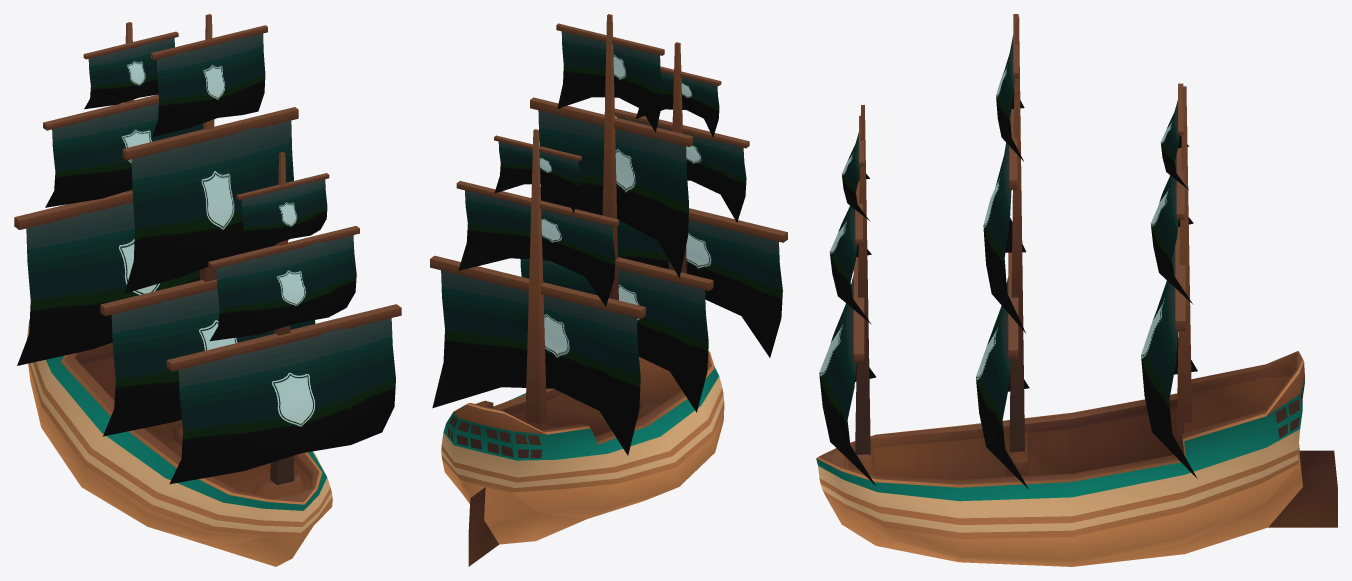
Rendered from corsair.glb.
The picture shows the model from 3 angles, left to right: view 1: azimuth 30°, elevation 25°; view 2: azimuth 150°, elevation 25°; view 3: azimuth 270°, elevation 25°; orthographic projection. The views are drawn at different scales.
Parts seen in each view (by area): view 1: fregate, Plane.015, Plane.001, Plane.009, Plane.011, Plane.014, Plane.002, Plane.007, Plane.013, Plane.005, Cube.057, Cube.042 (+9 smaller); view 2: fregate, Plane.009, Plane.001, Plane.015, Plane.007, Plane.011, Plane.002, Cube.041, Plane.014, Plane.005, Cube.049, Cube.040 (+9 smaller); view 3: fregate, Plane.009, Plane.015, Plane.011, Cube.040, Plane.001, Cube.041, Cube.039, Plane.007, Plane.014, Plane.002, Plane.005 (+4 smaller).
Boxes of the visible parts, x1=… form: fregate: x1=27, y1=320, x2=332, y2=566; Plane.015: x1=169, y1=318, x2=395, y2=484; Plane.001: x1=124, y1=120, x2=293, y2=293; Plane.009: x1=17, y1=202, x2=200, y2=365; Plane.011: x1=103, y1=289, x2=315, y2=436; Plane.014: x1=209, y1=235, x2=356, y2=341; Plane.002: x1=152, y1=33, x2=265, y2=137; Plane.007: x1=45, y1=103, x2=203, y2=207; Plane.013: x1=237, y1=179, x2=327, y2=249; Plane.005: x1=84, y1=38, x2=174, y2=109; Cube.057: x1=166, y1=304, x2=401, y2=371; Cube.042: x1=122, y1=107, x2=298, y2=160; fregate: x1=441, y1=350, x2=724, y2=566; Plane.009: x1=432, y1=270, x2=640, y2=455; Plane.001: x1=538, y1=110, x2=688, y2=277; Plane.015: x1=617, y1=220, x2=782, y2=357; Plane.007: x1=458, y1=190, x2=615, y2=306; Plane.011: x1=520, y1=259, x2=708, y2=412; Plane.002: x1=557, y1=31, x2=661, y2=132; Cube.041: x1=525, y1=129, x2=546, y2=424; Plane.014: x1=616, y1=117, x2=746, y2=222; Plane.005: x1=494, y1=141, x2=579, y2=212; Cube.049: x1=430, y1=255, x2=645, y2=318; Cube.040: x1=602, y1=14, x2=618, y2=300; fregate: x1=816, y1=351, x2=1337, y2=566; Plane.009: x1=1141, y1=246, x2=1197, y2=478; Plane.015: x1=819, y1=275, x2=876, y2=485; Plane.011: x1=976, y1=277, x2=1029, y2=489; Cube.040: x1=1009, y1=16, x2=1024, y2=452; Plane.001: x1=983, y1=142, x2=1025, y2=332; Cube.041: x1=1176, y1=86, x2=1191, y2=440; Cube.039: x1=855, y1=105, x2=870, y2=455; Plane.007: x1=1150, y1=154, x2=1193, y2=304; Plane.014: x1=829, y1=206, x2=871, y2=324; Plane.002: x1=996, y1=35, x2=1024, y2=161; Plane.005: x1=1160, y1=100, x2=1188, y2=189.
Size of the model in its own units: 0.8 by 1.74 by 1.5.
Materials: 2 (2 with a texture image).
